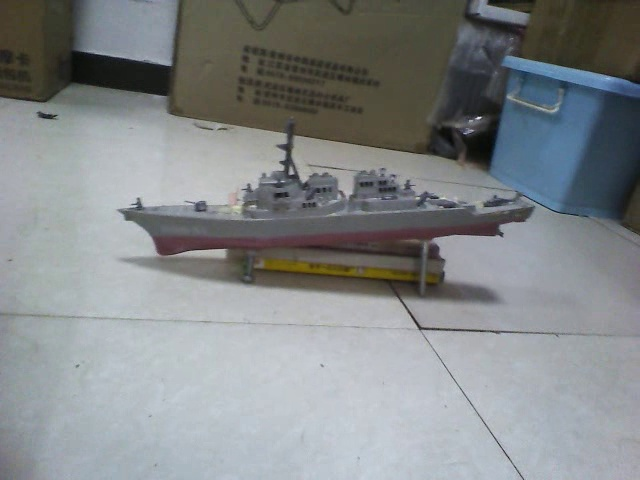warship: (118, 121, 536, 238)
